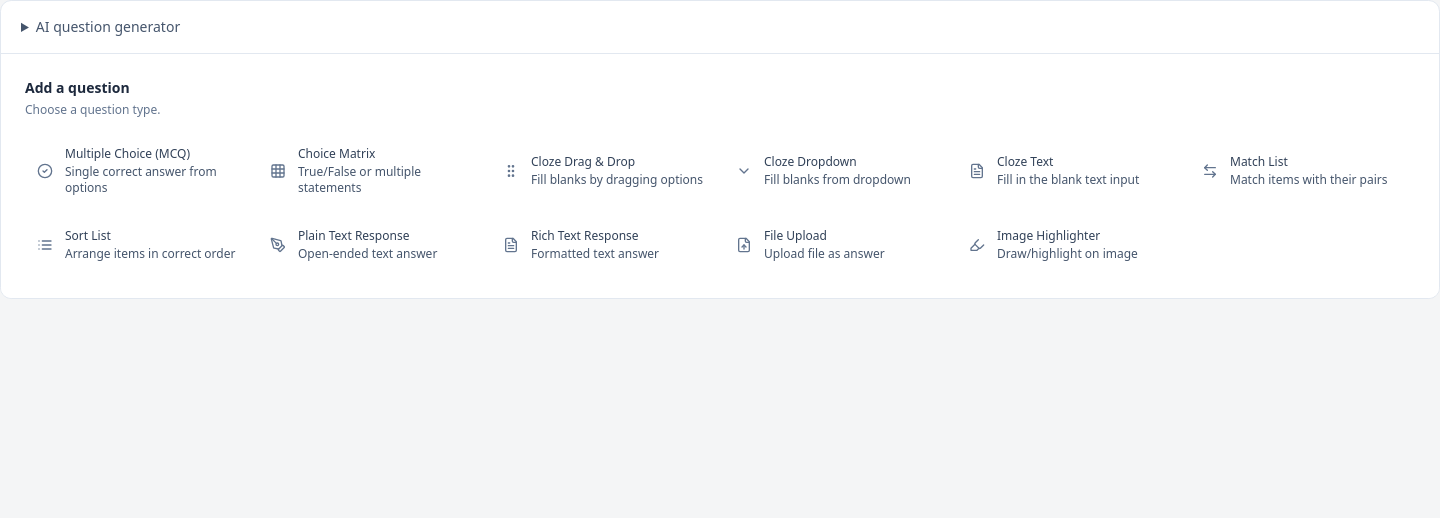
Test: InlineTryoutBuilder AI generation — RAG-grounded, non-mcq types › surfaces the "no material found" error instead of guessing content
The image size is (1440, 518).
Click the heading "AI question generator" at [108, 26], box [36, 17, 180, 36]
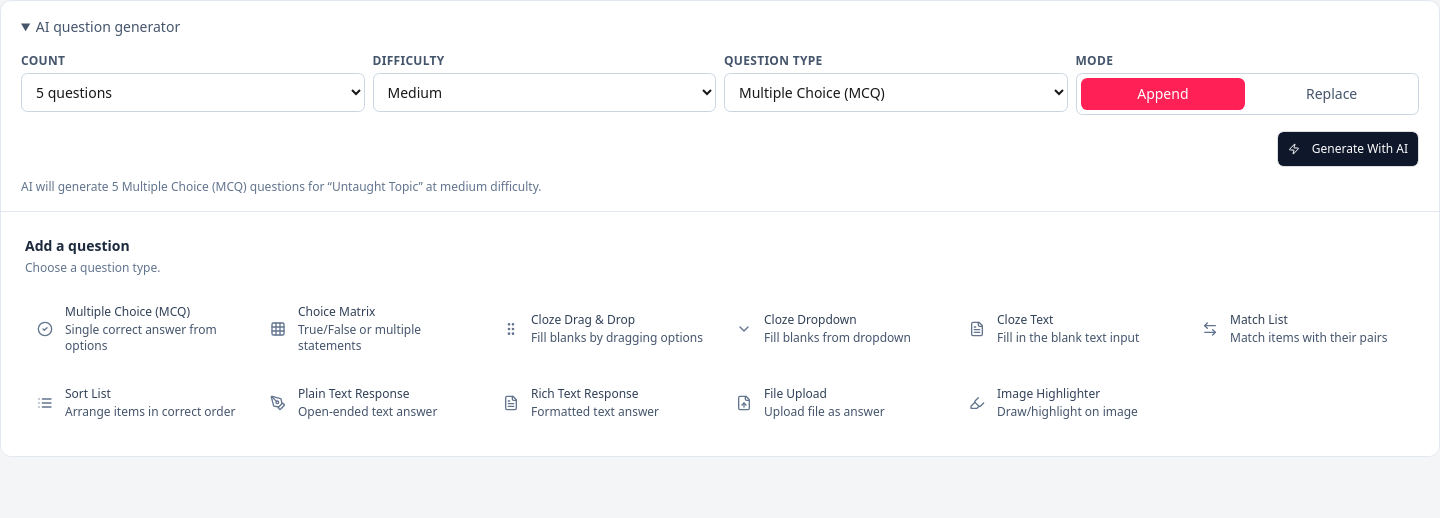
Click the button "Generate With AI" at [1348, 149], box [1277, 131, 1419, 167]
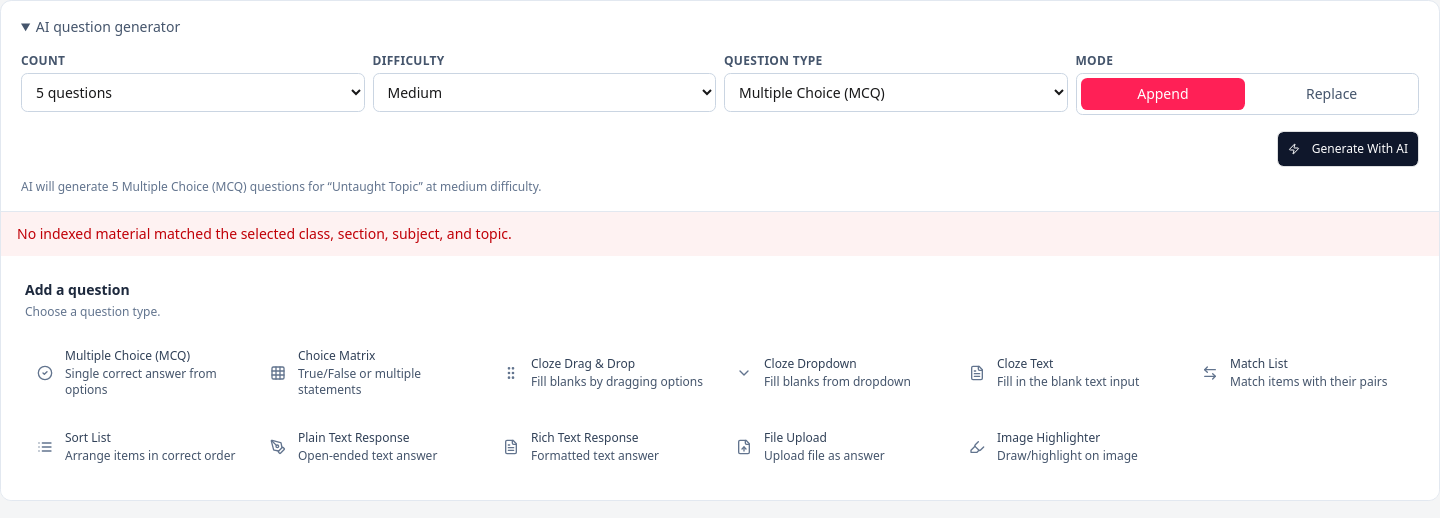
Expected: the text "No indexed material matched the selected class, section, subject, and topic." is shown, [1, 212, 1439, 256]
